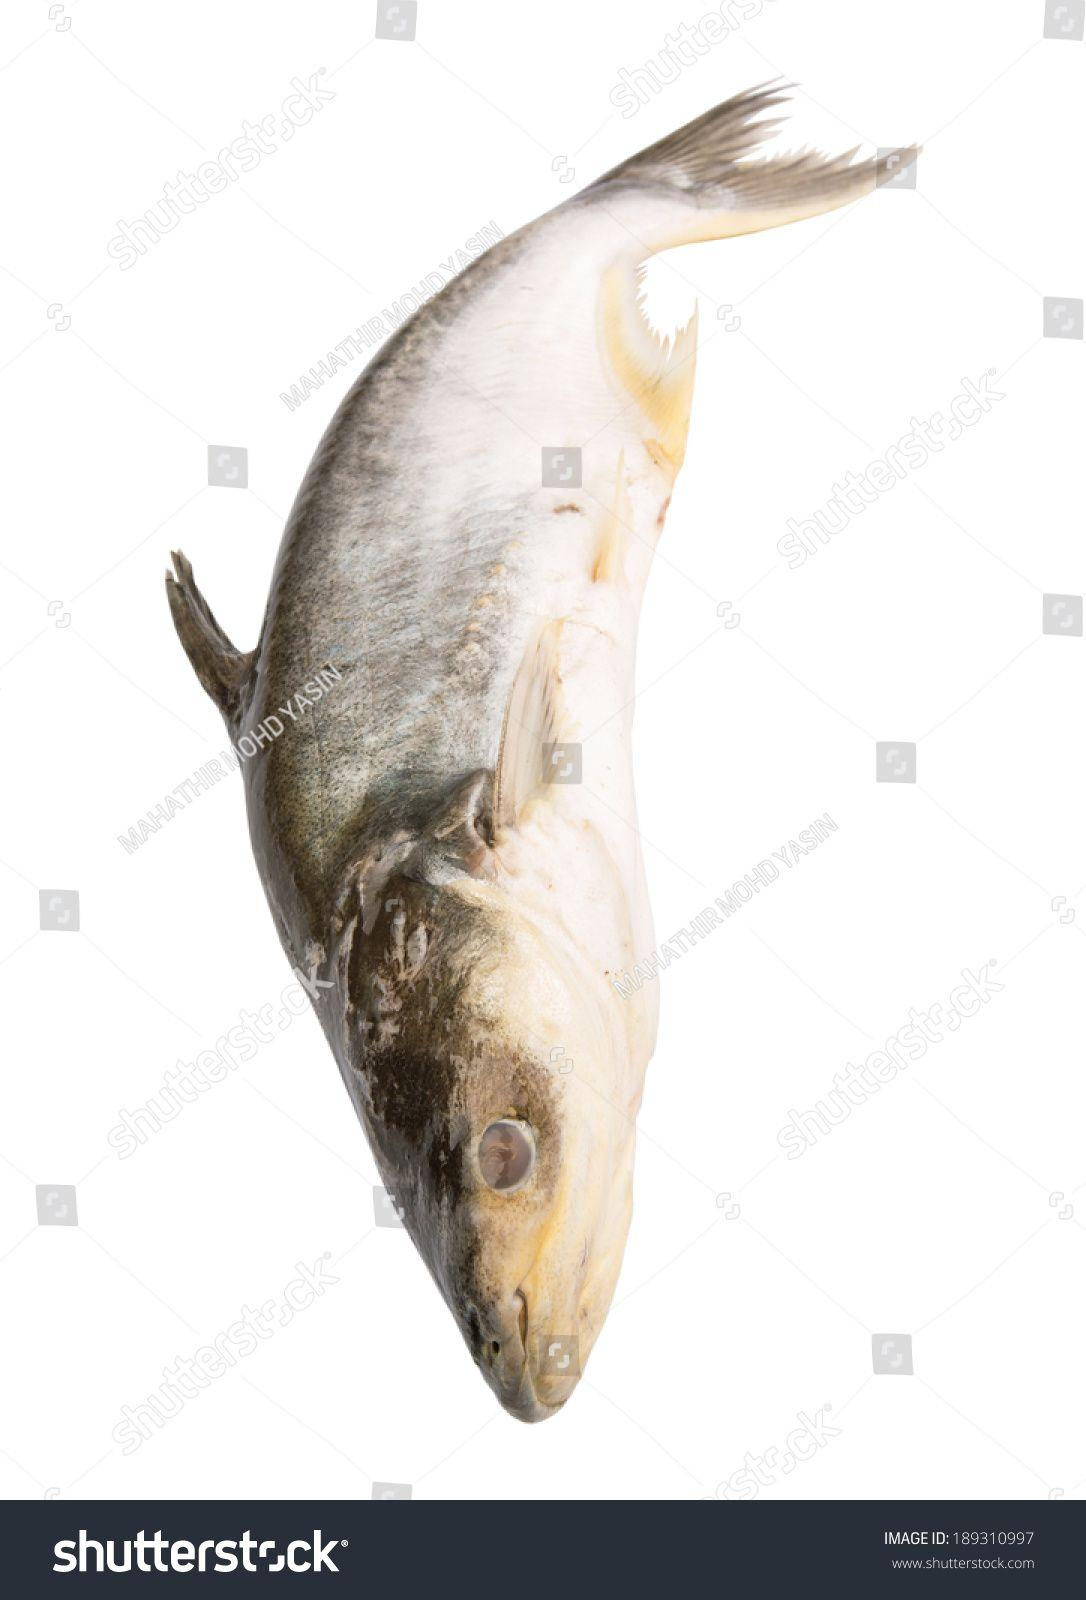Pangasius: (201, 75, 926, 1430)
